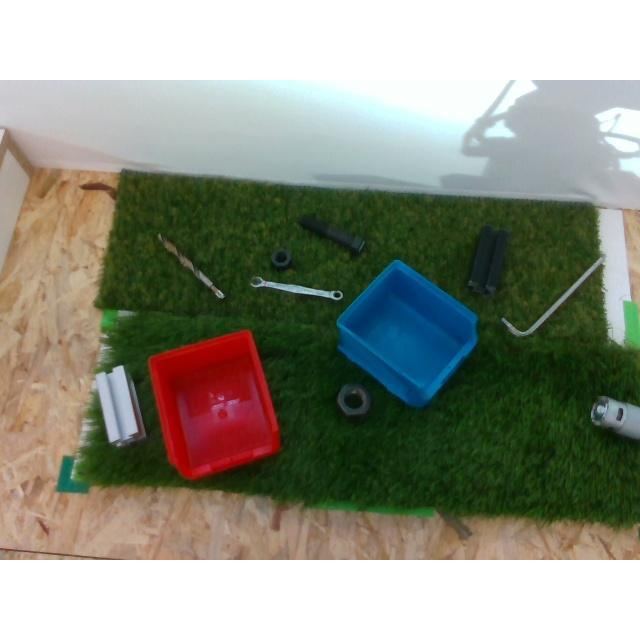AllenKey: (501, 250, 604, 334)
Drill: (156, 230, 224, 300)
M20: (268, 249, 292, 269)
M20_100: (298, 214, 366, 256)
M30: (336, 383, 372, 415)
Motor2: (590, 394, 638, 440)
S40_40_B: (467, 225, 501, 291)
S40_40_G: (95, 366, 145, 446)
Wrench: (250, 276, 342, 300)
container_box_blue: (334, 258, 478, 409)
container_box_red: (148, 328, 280, 480)
